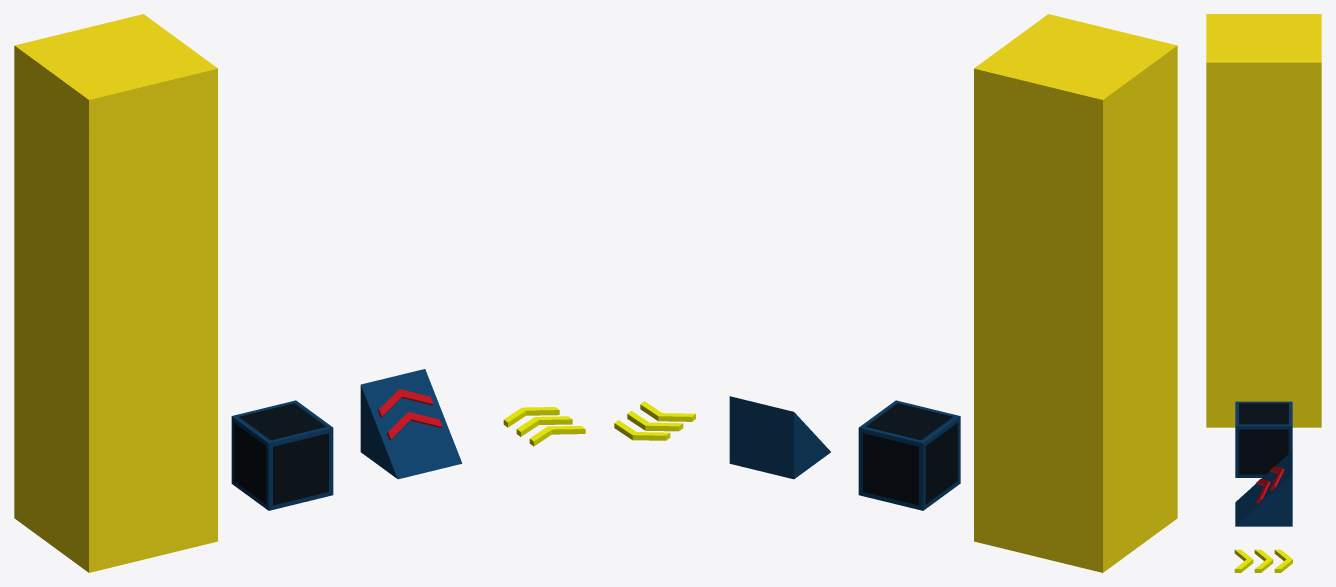
The model's file is chushi.fbx.
3 renders of one model, left to right at view 1: azimuth 30°, elevation 25°; view 2: azimuth 150°, elevation 25°; view 3: azimuth 270°, elevation 25°, orthographic. The views are drawn at different scales.
Visible parts, largest first — view 1: baijian_1, xiangzi, tantiao, jiasu; view 2: baijian_1, xiangzi, tantiao, jiasu; view 3: baijian_1, xiangzi, tantiao, jiasu.
Boxes of the visible parts, x1,y1,x2,y2 form: baijian_1: [14, 14, 217, 572]; xiangzi: [231, 400, 333, 510]; tantiao: [360, 369, 462, 479]; jiasu: [503, 407, 585, 446]; baijian_1: [974, 14, 1177, 572]; xiangzi: [858, 400, 960, 510]; tantiao: [729, 396, 830, 479]; jiasu: [614, 401, 695, 440]; baijian_1: [1206, 14, 1321, 427]; xiangzi: [1235, 401, 1292, 477]; tantiao: [1235, 451, 1292, 526]; jiasu: [1234, 549, 1292, 572].
Size of the model in its own units: 314 by 276 by 78.74.
Materials: 1 (1 with a texture image).
